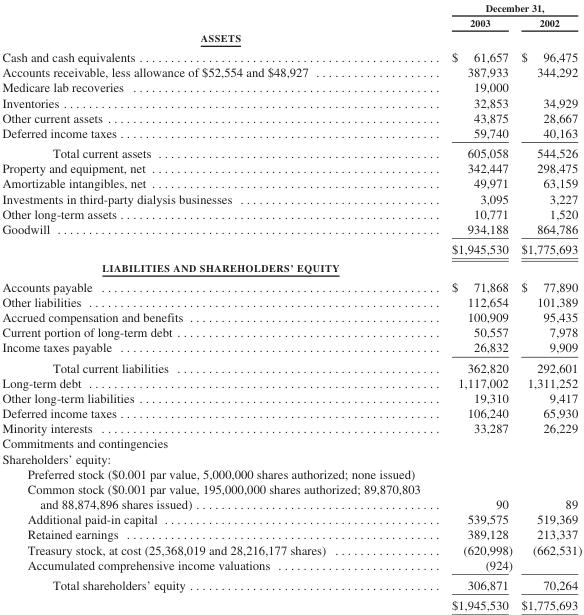table: (1, 1, 581, 611)
table column: (1, 1, 435, 611), (435, 1, 516, 611), (516, 1, 581, 611)
table column header: (1, 1, 581, 29)
table projected row header: (1, 258, 581, 276), (1, 29, 581, 46), (1, 465, 581, 481), (1, 435, 581, 450), (1, 450, 581, 465)
table row: (1, 481, 581, 511), (1, 238, 581, 258), (1, 574, 581, 594), (1, 46, 581, 64), (1, 124, 581, 142), (1, 142, 581, 160), (1, 220, 581, 238), (1, 258, 581, 276), (1, 276, 581, 294), (1, 339, 581, 357), (1, 556, 581, 574), (1, 29, 581, 46), (1, 357, 581, 374), (1, 594, 581, 611), (1, 374, 581, 390), (1, 465, 581, 481), (1, 14, 581, 29), (1, 64, 581, 79), (1, 79, 581, 94), (1, 94, 581, 109), (1, 109, 581, 124), (1, 160, 581, 175), (1, 175, 581, 190), (1, 190, 581, 205), (1, 205, 581, 220), (1, 294, 581, 309), (1, 309, 581, 324), (1, 324, 581, 339), (1, 390, 581, 405), (1, 405, 581, 420), (1, 420, 581, 435), (1, 435, 581, 450), (1, 450, 581, 465), (1, 511, 581, 526), (1, 526, 581, 541), (1, 541, 581, 556), (1, 1, 581, 14)
table spanning cell: (435, 1, 581, 14)
